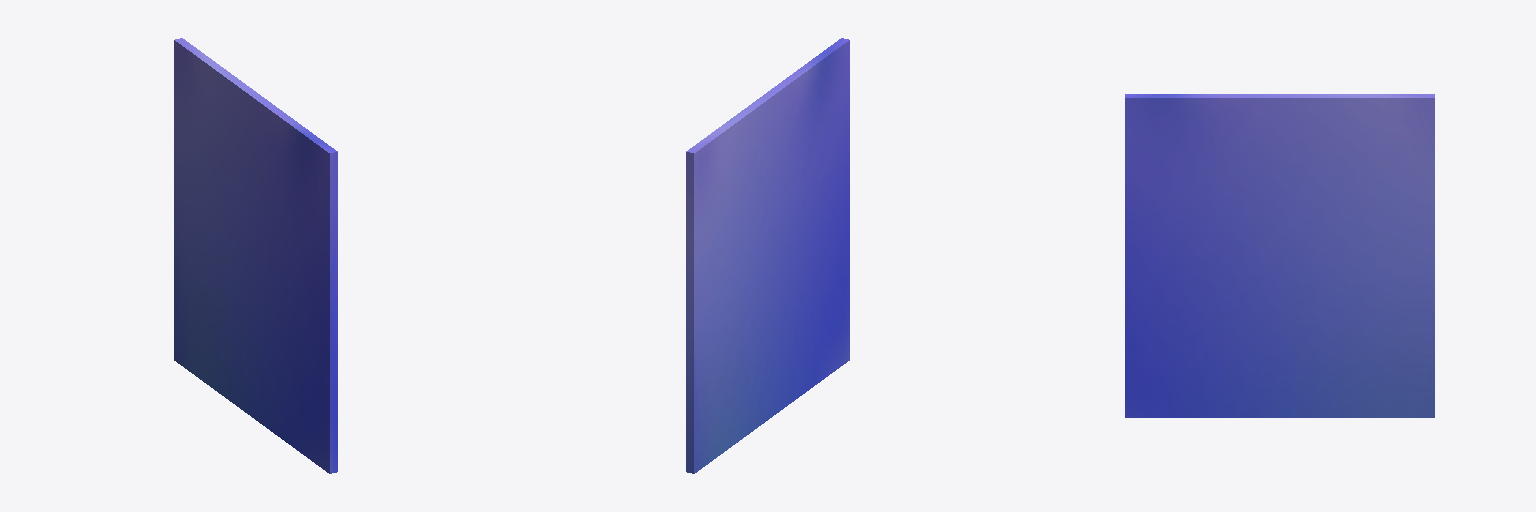
3 views of the same model, side by side, from view 1: azimuth 30°, elevation 25°; view 2: azimuth 150°, elevation 25°; view 3: azimuth 270°, elevation 25° (orthographic).
Visible parts, largest first — view 1: puertac4:pCube1pasted__group141group142; view 2: puertac4:pCube1pasted__group141group142; view 3: puertac4:pCube1pasted__group141group142.
Boxes of the visible parts, x1,y1,x2,y2 form: puertac4:pCube1pasted__group141group142: [174, 38, 337, 473]; puertac4:pCube1pasted__group141group142: [686, 38, 849, 473]; puertac4:pCube1pasted__group141group142: [1125, 94, 1434, 417].
Size of the model in its own units: 0.1099 by 4.14 by 3.64.
1 materials, 1 textured.